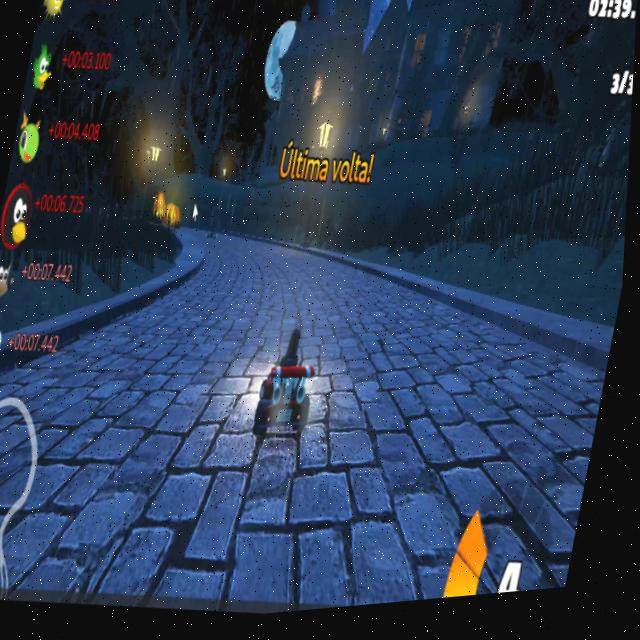player_kart: (241, 325, 338, 461)
track: (323, 314, 569, 499), (64, 306, 260, 517), (195, 229, 326, 328)
